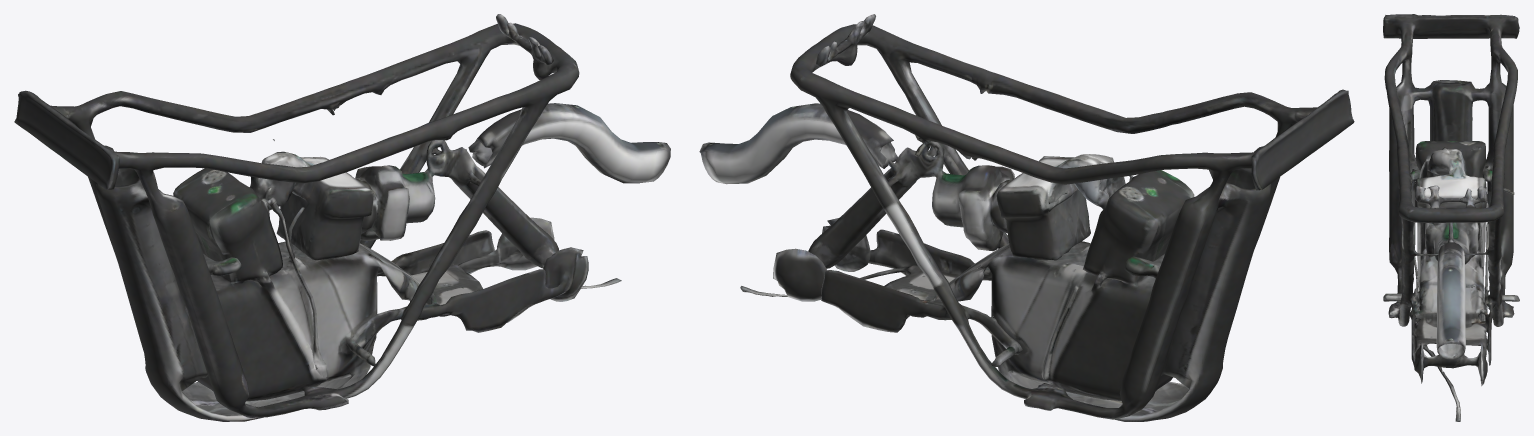
Rendered from Motorcycle_Frame_texture.fbx.
3 views of the same model, side by side, from view 1: azimuth 30°, elevation 25°; view 2: azimuth 150°, elevation 25°; view 3: azimuth 270°, elevation 25° (orthographic). The views are drawn at different scales.
Visible parts, largest first — view 1: Mesh1; view 2: Mesh1; view 3: Mesh1.
Boxes of the visible parts, box(x1,y1,x2,y2) form: Mesh1: box(14, 14, 670, 421); Mesh1: box(699, 14, 1354, 421); Mesh1: box(1383, 14, 1519, 421).
Size of the model in its own units: 200 by 103 by 54.71.
1 material, 1 textured.
